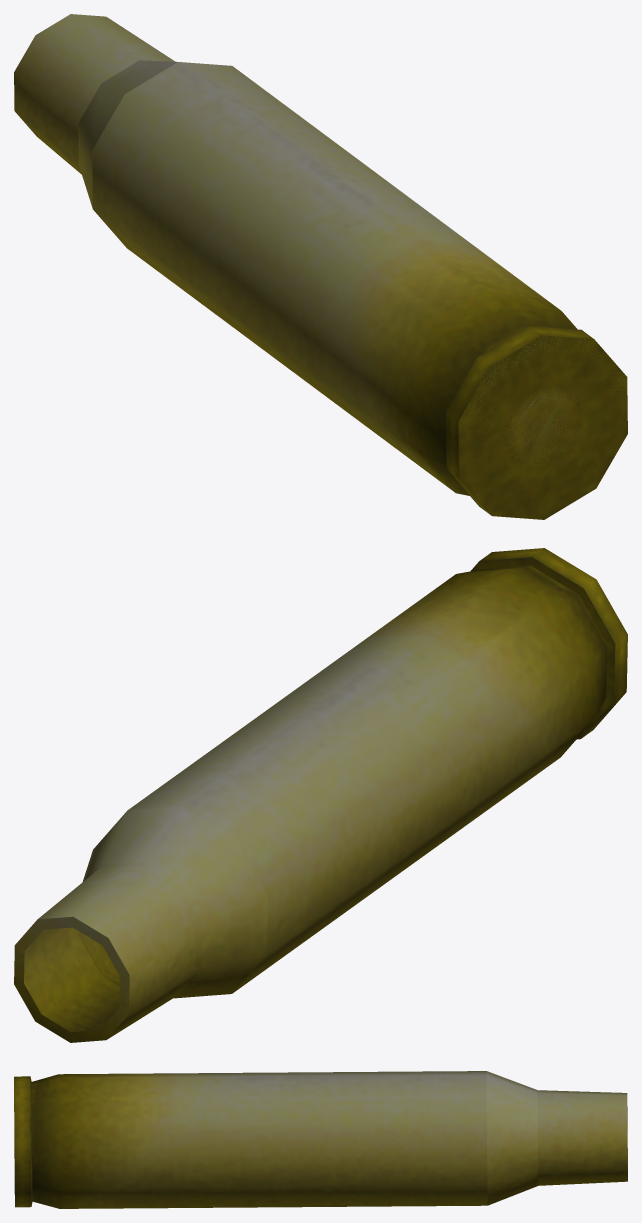
The model's file is bullet.obj.
The picture shows the model from 3 angles, top to bottom: view 1: azimuth 30°, elevation 25°; view 2: azimuth 150°, elevation 25°; view 3: azimuth 270°, elevation 25°; orthographic projection. The views are drawn at different scales.
Visible parts, largest first — view 1: bullet; view 2: bullet; view 3: bullet.
Part boxes in pixels (left/top/right/bottom): bullet: left=14, top=14, right=627, bottom=519; bullet: left=14, top=548, right=627, bottom=1042; bullet: left=14, top=1071, right=627, bottom=1208.
Bounding box in the file's own units: 1.35 × 1.44 × 6.25.
Materials: 1 (1 with a texture image).
